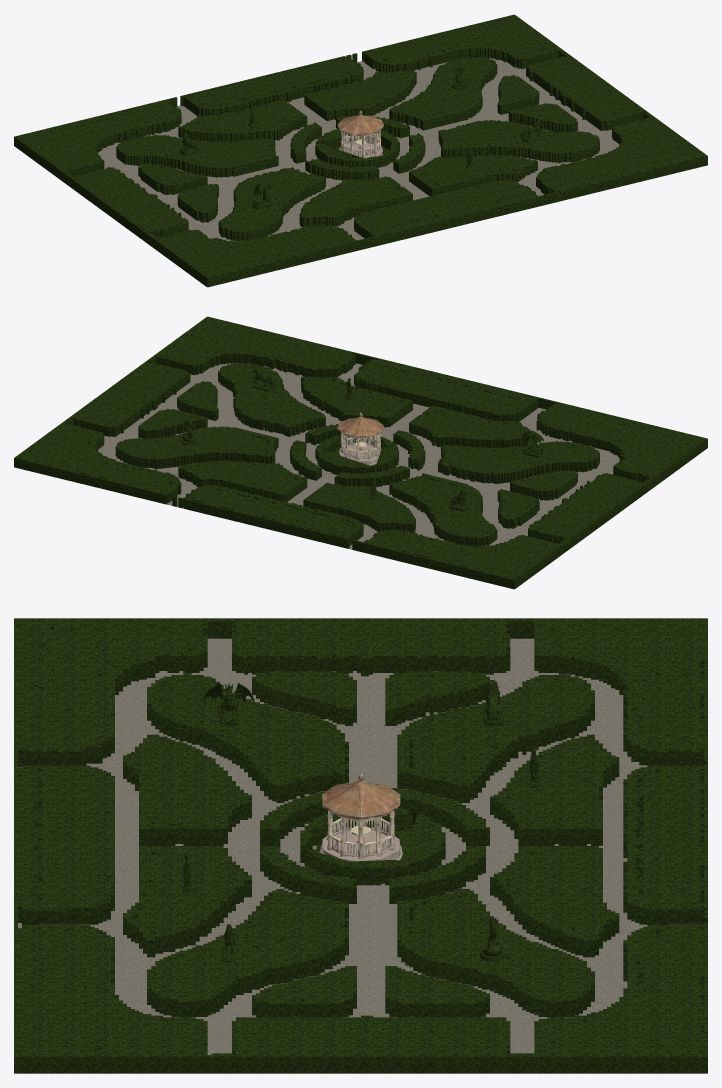
File: underground-garden-shared-v4.glb
3 renders of one model, top to bottom at view 1: azimuth 30°, elevation 25°; view 2: azimuth 150°, elevation 25°; view 3: azimuth 270°, elevation 25°, orthographic. The views are drawn at different scales.
Visible parts, largest first — view 1: Raised hedge beds - 1 metre, geometry_0, gazebo - original generated mesh; view 2: Raised hedge beds - 1 metre, geometry_0, gazebo - original generated mesh; view 3: Raised hedge beds - 1 metre, geometry_0, gazebo - original generated mesh, dragon - original generated mesh, dog - original generated mesh.
Part boxes in pixels (x1=…): Raised hedge beds - 1 metre: x1=14, y1=14, x2=707, y2=287; geometry_0: x1=98, y1=58, x2=619, y2=241; gazebo - original generated mesh: x1=337, y1=110, x2=383, y2=158; Raised hedge beds - 1 metre: x1=14, y1=316, x2=707, y2=589; geometry_0: x1=98, y1=362, x2=619, y2=549; gazebo - original generated mesh: x1=337, y1=412, x2=384, y2=465; Raised hedge beds - 1 metre: x1=14, y1=618, x2=707, y2=1073; geometry_0: x1=18, y1=638, x2=647, y2=1054; gazebo - original generated mesh: x1=319, y1=773, x2=402, y2=861; dragon - original generated mesh: x1=204, y1=682, x2=254, y2=725; dog - original generated mesh: x1=482, y1=680, x2=502, y2=725.
Size of what is drawn, in the model's own units: 55.84 by 4.83 by 37.35.
Materials: 3 (3 with a texture image).
